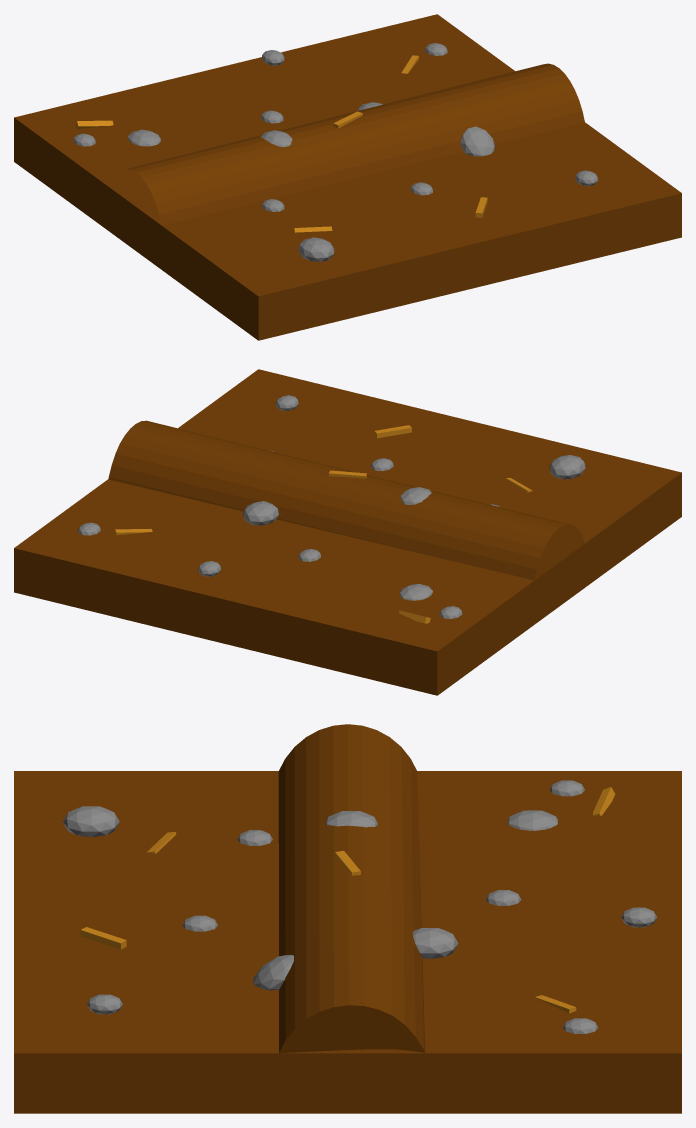
File: Soil.fbx
The picture shows the model from 3 angles, top to bottom: view 1: azimuth 30°, elevation 25°; view 2: azimuth 150°, elevation 25°; view 3: azimuth 270°, elevation 25°; orthographic projection. The views are drawn at different scales.
Parts seen in each view (by area): view 1: Cube.006, Cylinder, Icosphere.006, Icosphere.007; view 2: Cube.006, Cylinder, Icosphere.007, Icosphere.005; view 3: Cube.006, Cylinder, Icosphere.007, Icosphere.005, Icosphere.006, Icosphere.010, Icosphere, Icosphere.011, Icosphere.004.
Boxes of the visible parts, left/top/right/bottom form: Cube.006: left=14, top=14, right=681, bottom=340; Cylinder: left=111, top=63, right=584, bottom=225; Icosphere.006: left=460, top=126, right=494, bottom=156; Icosphere.007: left=298, top=237, right=334, bottom=261; Cube.006: left=14, top=369, right=681, bottom=695; Cylinder: left=108, top=420, right=584, bottom=580; Icosphere.007: left=549, top=455, right=585, bottom=479; Icosphere.005: left=243, top=501, right=278, bottom=525; Cube.006: left=14, top=771, right=681, bottom=1113; Cylinder: left=278, top=724, right=425, bottom=1053; Icosphere.007: left=63, top=806, right=119, bottom=837; Icosphere.005: left=413, top=928, right=458, bottom=958; Icosphere.006: left=253, top=955, right=293, bottom=990; Icosphere.010: left=507, top=810, right=557, bottom=830; Icosphere: left=325, top=811, right=377, bottom=827; Icosphere.011: left=621, top=907, right=656, bottom=927; Icosphere.004: left=87, top=994, right=122, bottom=1014.
Size of the model in its own units: 100 by 18.61 by 100.
